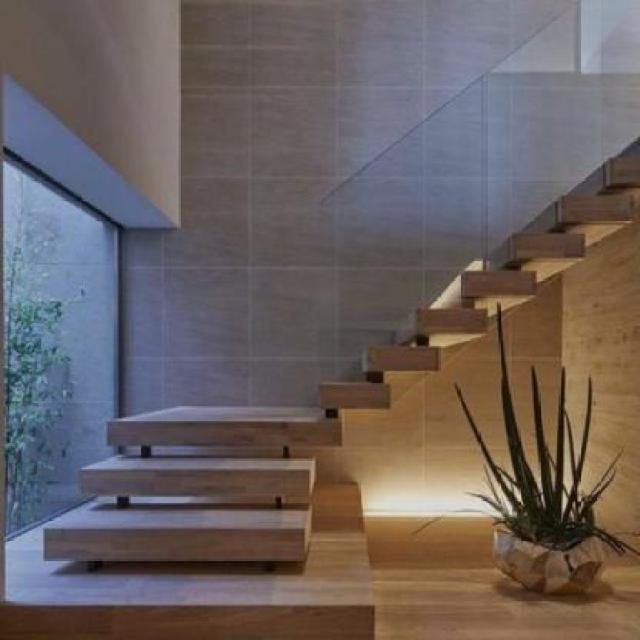stair: (1, 21, 638, 638)
